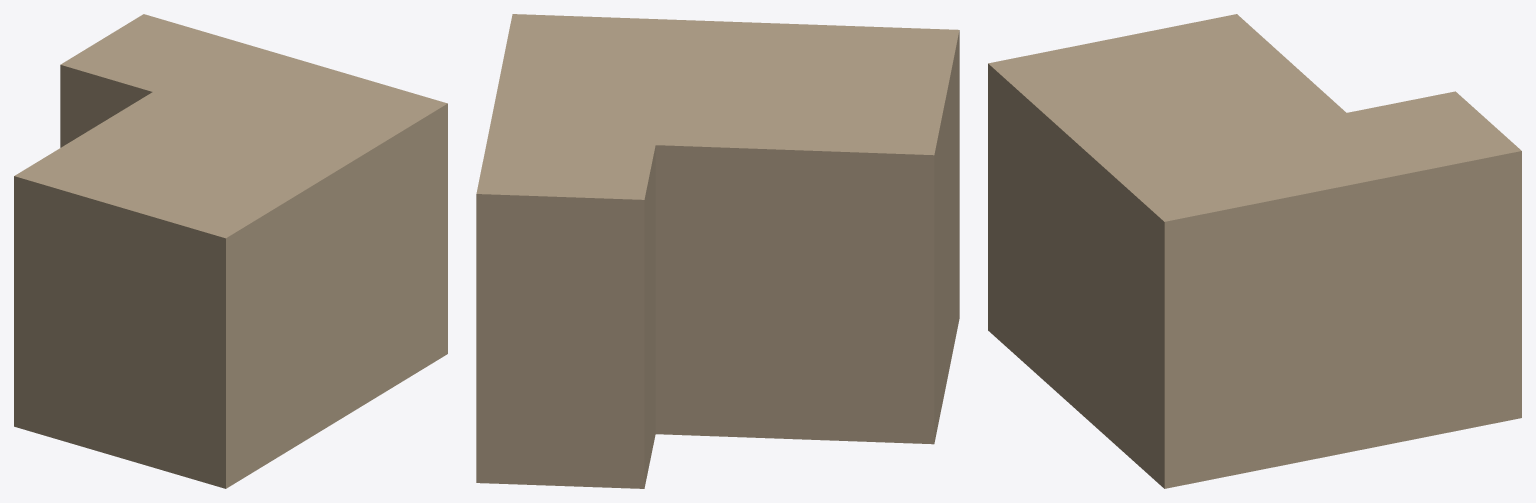
File: bld_106415374.dae
The picture shows the model from 3 angles, left to right: view 1: azimuth 30°, elevation 25°; view 2: azimuth 150°, elevation 25°; view 3: azimuth 270°, elevation 25°; orthographic projection. The views are drawn at different scales.
Parts seen in each view (by area): view 1: bld_106415374; view 2: bld_106415374; view 3: bld_106415374.
Part boxes in pixels (x1=…): bld_106415374: x1=14, y1=14, x2=447, y2=488; bld_106415374: x1=476, y1=14, x2=959, y2=488; bld_106415374: x1=988, y1=14, x2=1521, y2=488.
Size of the model in its own units: 13.35 by 14.49 by 8.
